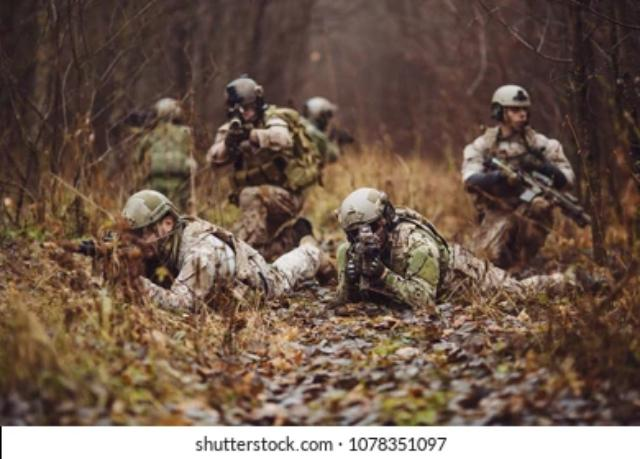other: (338, 178, 596, 307), (105, 190, 322, 303), (456, 80, 558, 241), (216, 74, 318, 233), (140, 89, 203, 185)
